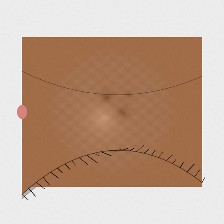hemorrhage_spot: (94, 59, 187, 133)
